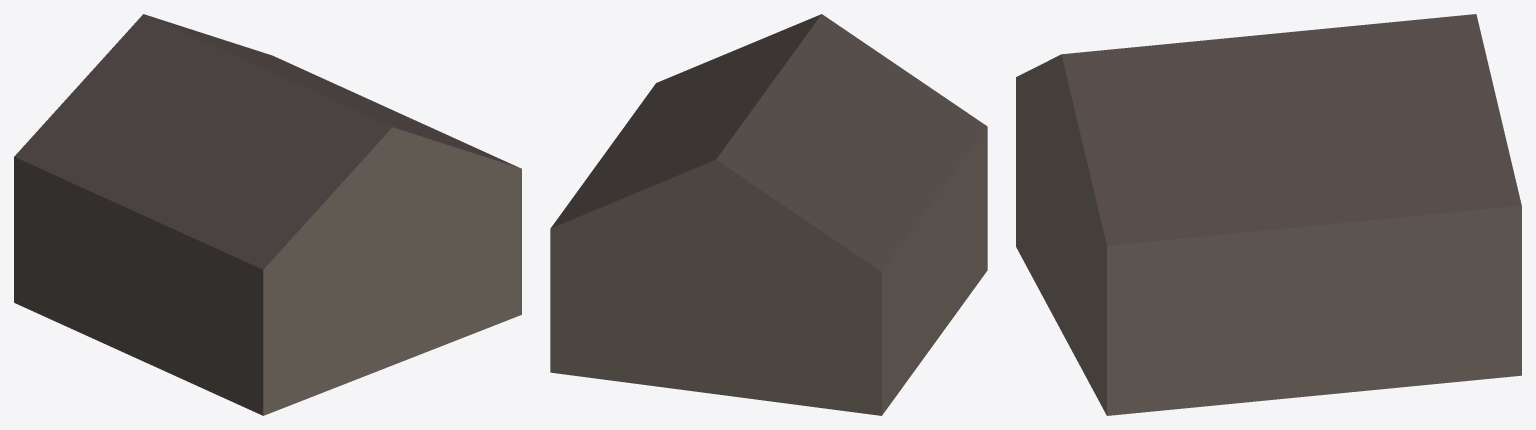
The picture shows the model from 3 angles, left to right: view 1: azimuth 30°, elevation 25°; view 2: azimuth 150°, elevation 25°; view 3: azimuth 270°, elevation 25°; orthographic projection. The views are drawn at different scales.
Parts seen in each view (by area): view 1: HP-w859078886; view 2: HP-w859078886; view 3: HP-w859078886.
Boxes of the visible parts, box(x1,y1,x2,y2) form: HP-w859078886: box(14, 14, 521, 415); HP-w859078886: box(550, 14, 987, 415); HP-w859078886: box(1016, 14, 1521, 415).
Size of the model in its own units: 15.84 by 9.79 by 16.18.
